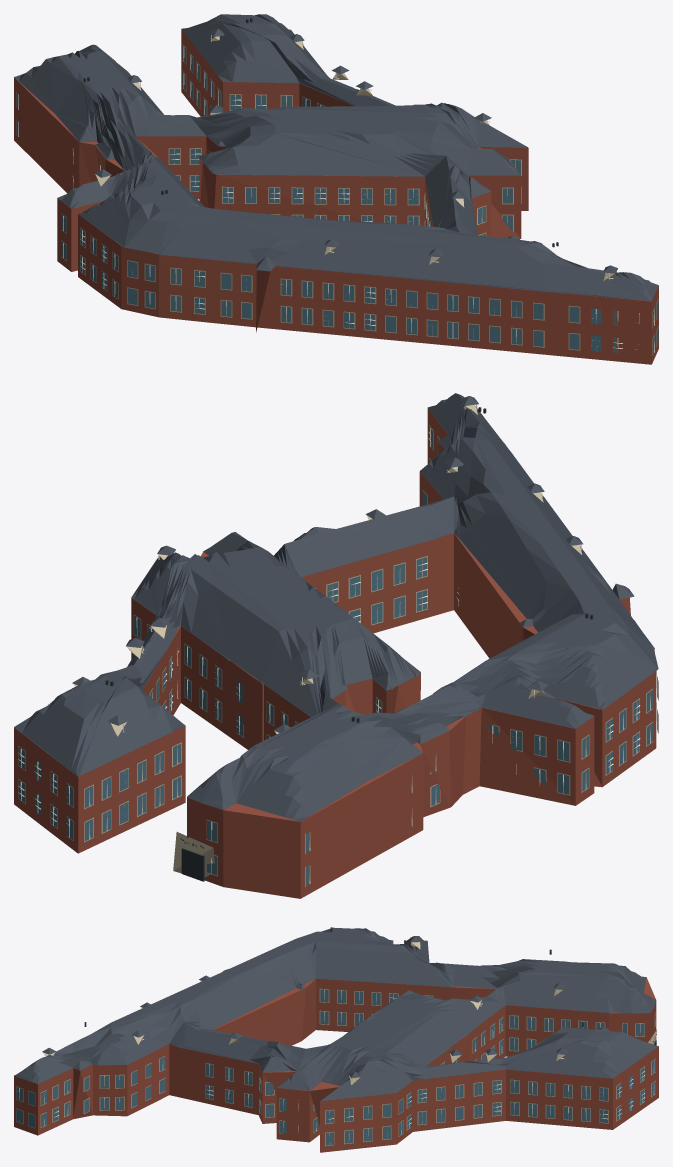
Rendered from amsterdam-museum.lod1.glb.
The picture shows the model from 3 angles, top to bottom: view 1: azimuth 30°, elevation 25°; view 2: azimuth 150°, elevation 25°; view 3: azimuth 270°, elevation 25°; orthographic projection. The views are drawn at different scales.
Parts seen in each view (by area): view 1: amsterdam-museum; view 2: amsterdam-museum; view 3: amsterdam-museum.
Boxes of the visible parts, <box> form: amsterdam-museum: <box>14,14,658,364</box>; amsterdam-museum: <box>14,393,658,898</box>; amsterdam-museum: <box>14,927,658,1152</box>.
Bounding box in the file's own units: 71.43 × 17.14 × 121.
